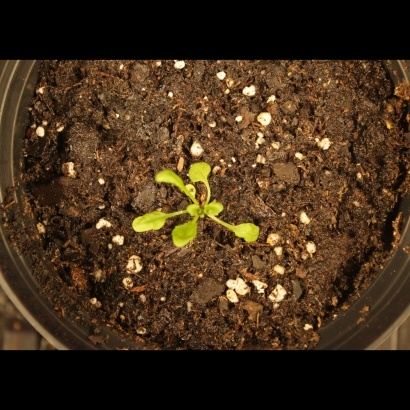leaf: (130, 208, 169, 236), (233, 217, 264, 250), (169, 219, 202, 248), (153, 168, 187, 192), (183, 160, 214, 185), (204, 199, 227, 222), (182, 198, 205, 221)
